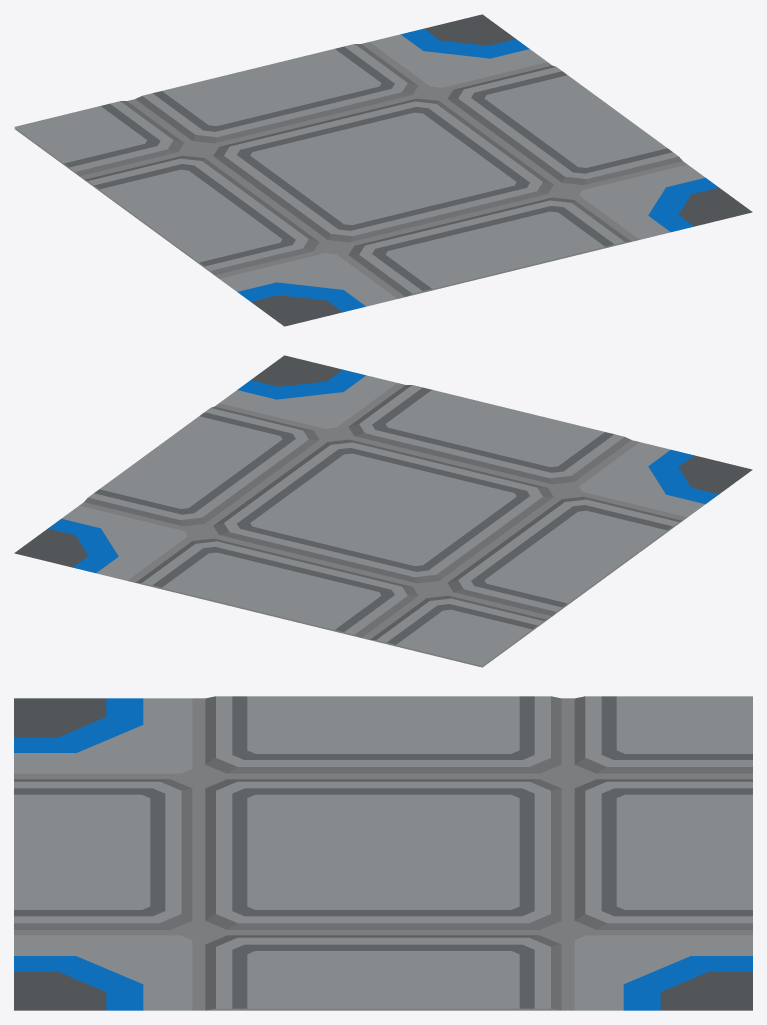
File: Floor_type_B_035.glb
3 views of the same model, one above another, from view 1: azimuth 30°, elevation 25°; view 2: azimuth 150°, elevation 25°; view 3: azimuth 270°, elevation 25° (orthographic). The views are drawn at different scales.
Parts seen in each view (by area): view 1: Floor_type_B_035; view 2: Floor_type_B_035; view 3: Floor_type_B_035.
Boxes of the visible parts, x1=… form: Floor_type_B_035: x1=14, y1=14, x2=752, y2=326; Floor_type_B_035: x1=14, y1=355, x2=752, y2=667; Floor_type_B_035: x1=14, y1=696, x2=752, y2=1010.
Size of the model in its own units: 4 by 0.0134 by 4.
Materials: 2 (2 with a texture image).
